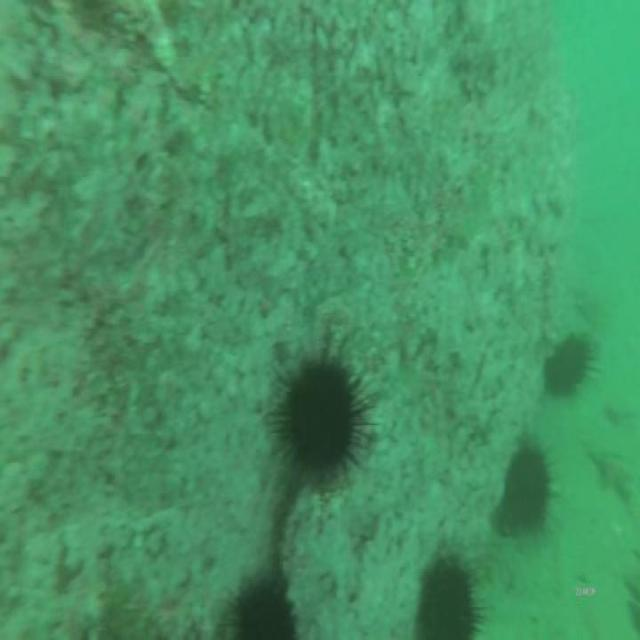echinus: (264, 336, 378, 494), (418, 542, 484, 640), (223, 561, 302, 640), (502, 440, 556, 538), (540, 330, 596, 400)
starfish: (585, 439, 635, 506)
